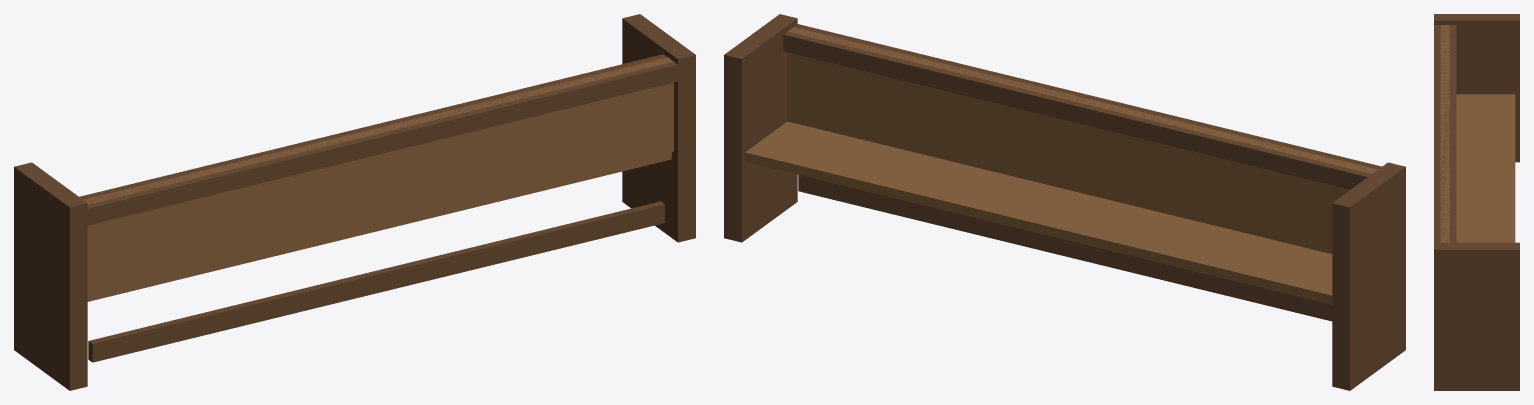
The model's file is SM_Prop_Church_Pew_01.glb.
The picture shows the model from 3 angles, left to right: view 1: azimuth 30°, elevation 25°; view 2: azimuth 150°, elevation 25°; view 3: azimuth 270°, elevation 25°; orthographic projection. The views are drawn at different scales.
Parts seen in each view (by area): view 1: SM_Prop_Church_Pew_01; view 2: SM_Prop_Church_Pew_01; view 3: SM_Prop_Church_Pew_01.
Boxes of the visible parts, x1=… form: SM_Prop_Church_Pew_01: x1=14, y1=14, x2=695, y2=390; SM_Prop_Church_Pew_01: x1=724, y1=14, x2=1405, y2=390; SM_Prop_Church_Pew_01: x1=1434, y1=14, x2=1519, y2=390.
Bounding box in the file's own units: 3.5 × 0.98 × 0.54.
1 material, 1 textured.
